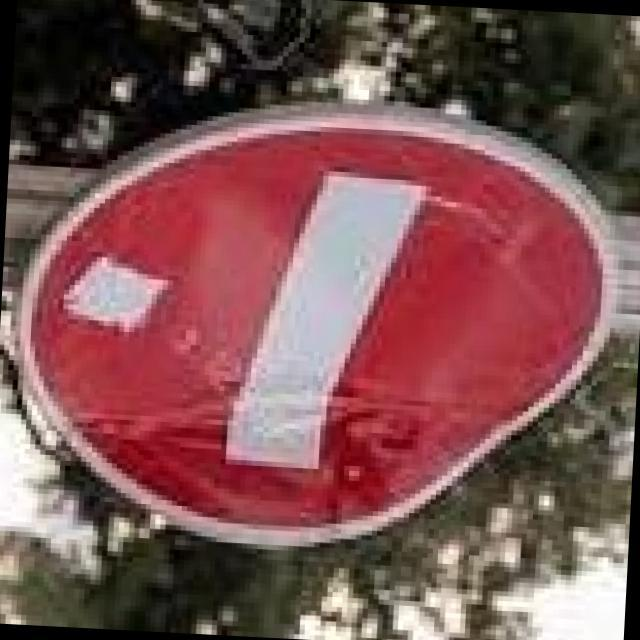obstructed_road_sign: (22, 106, 611, 546)
